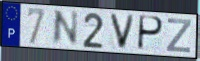2: (83, 10, 105, 50)
7: (26, 6, 48, 46)
N: (50, 9, 80, 47)
P: (136, 14, 165, 52)
V: (108, 12, 137, 51)
Z: (165, 17, 193, 55)
